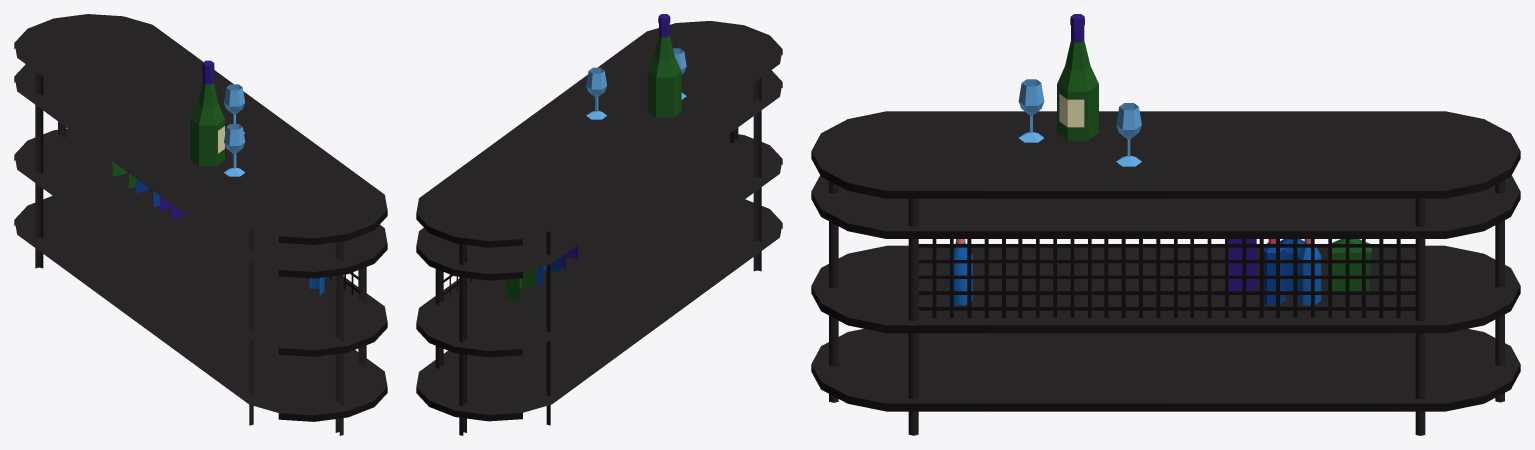
The model's file is M_chuangbiangui04.FBX.
3 renders of one model, left to right at view 1: azimuth 30°, elevation 25°; view 2: azimuth 150°, elevation 25°; view 3: azimuth 270°, elevation 25°, orthographic. The views are drawn at different scales.
Visible parts, largest first — view 1: M_chuangbiangui04_01, M_chuangbiangui04_02, M_chuangbiangui04_03; view 2: M_chuangbiangui04_01, M_chuangbiangui04_02; view 3: M_chuangbiangui04_01, M_chuangbiangui04_02, M_chuangbiangui04_03.
Boxes of the visible parts, x1,y1,x2,y2 form: M_chuangbiangui04_01: (14, 14, 387, 435); M_chuangbiangui04_02: (112, 82, 324, 295); M_chuangbiangui04_03: (202, 60, 224, 153); M_chuangbiangui04_01: (416, 21, 782, 435); M_chuangbiangui04_02: (506, 35, 686, 301); M_chuangbiangui04_01: (811, 111, 1520, 435); M_chuangbiangui04_02: (948, 40, 1371, 305); M_chuangbiangui04_03: (1059, 14, 1084, 127).
Bounding box in the file's own units: 0.7935 × 1.7 × 2.99.
